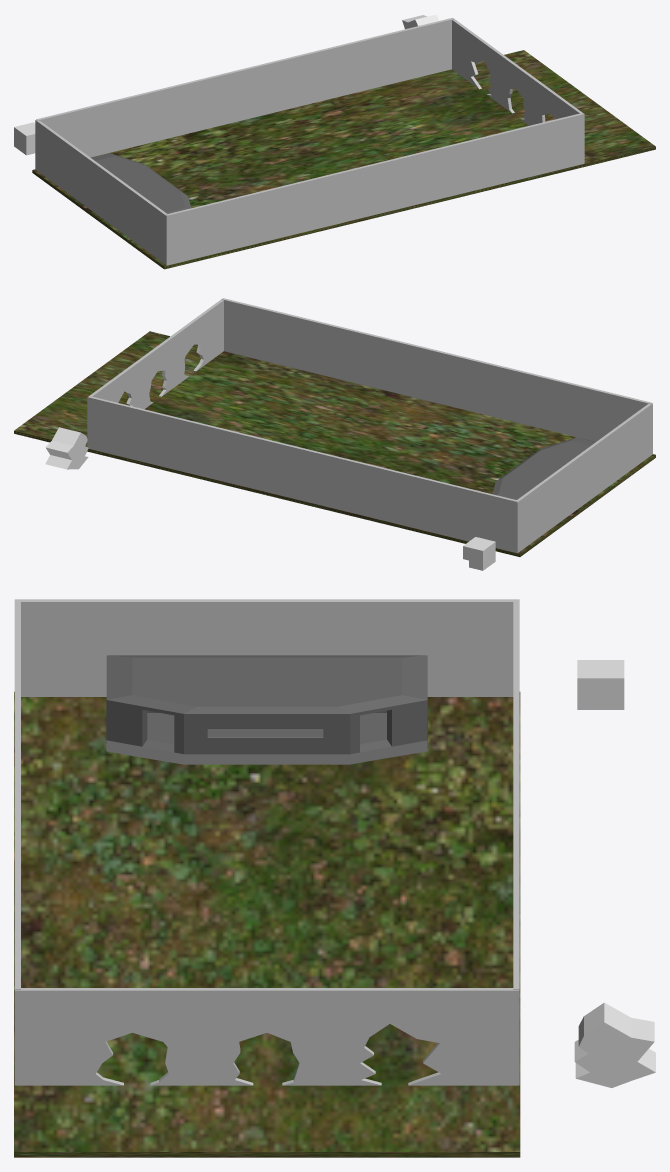
Rendered from Map2.fbx.
The picture shows the model from 3 angles, top to bottom: view 1: azimuth 30°, elevation 25°; view 2: azimuth 150°, elevation 25°; view 3: azimuth 270°, elevation 25°; orthographic projection. The views are drawn at different scales.
Parts seen in each view (by area): view 1: Floor, RightWall, LeftWall, BackWall, FrontWallWithBreaks, Bunker, BunkerCutoutTool; view 2: Floor, LeftWall, RightWall, BackWall, FrontWallWithBreaks, Bunker, CutoutTool, BunkerCutoutTool; view 3: Floor, FrontWallWithBreaks, BackWall, Bunker, CutoutTool, RightWall, LeftWall, BunkerCutoutTool.
Boxes of the visible parts, <box> form: Floor: <box>32,50,655,269</box>; RightWall: <box>166,113,584,265</box>; LeftWall: <box>36,18,453,157</box>; BackWall: <box>35,120,167,265</box>; FrontWallWithBreaks: <box>452,18,584,163</box>; Bunker: <box>91,153,191,213</box>; BunkerCutoutTool: <box>14,122,35,155</box>; Floor: <box>14,331,655,556</box>; LeftWall: <box>88,396,517,552</box>; RightWall: <box>222,298,651,441</box>; BackWall: <box>516,403,652,553</box>; FrontWallWithBreaks: <box>87,298,223,447</box>; Bunker: <box>492,437,595,499</box>; CutoutTool: <box>45,427,88,469</box>; BunkerCutoutTool: <box>463,537,495,570</box>; Floor: <box>14,691,520,1157</box>; FrontWallWithBreaks: <box>15,988,519,1085</box>; BackWall: <box>21,599,513,696</box>; Bunker: <box>106,655,427,764</box>; CutoutTool: <box>574,1002,655,1087</box>; RightWall: <box>14,599,20,1084</box>; LeftWall: <box>513,599,519,1084</box>; BunkerCutoutTool: <box>577,660,624,709</box>.
Bounding box in the file's own units: 34541 × 3546 × 20367.
